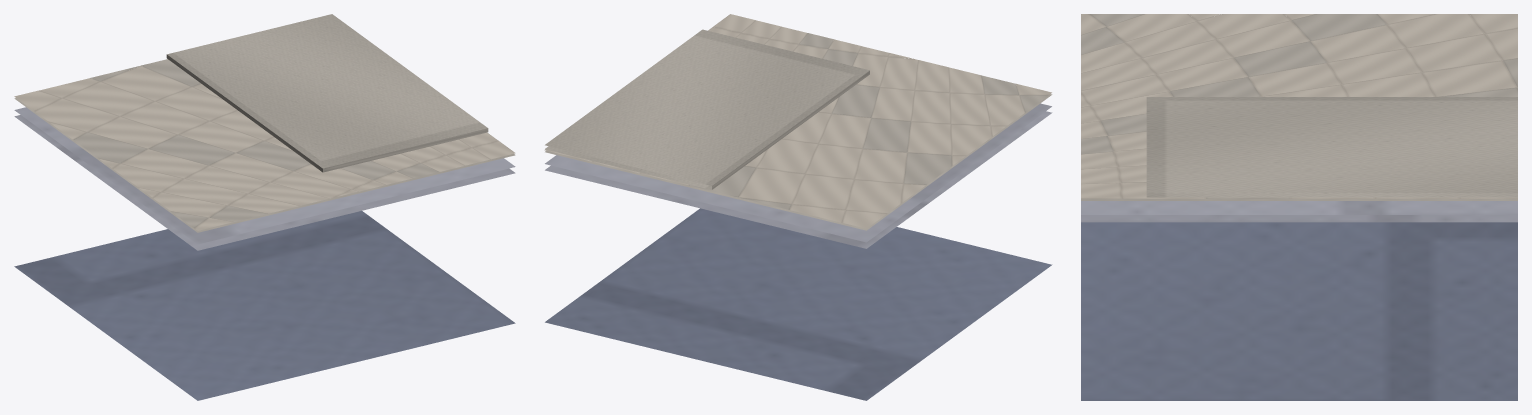
Rendered from high_crown_fracture_26.obj.
3 views of the same model, side by side, from view 1: azimuth 30°, elevation 25°; view 2: azimuth 150°, elevation 25°; view 3: azimuth 270°, elevation 25° (orthographic). The views are drawn at different scales.
Parts seen in each view (by area): view 1: ArenaFracture26; view 2: ArenaFracture26; view 3: ArenaFracture26.
Boxes of the visible parts, bbox=[...] form: ArenaFracture26: bbox=[14, 14, 515, 400]; ArenaFracture26: bbox=[544, 14, 1052, 400]; ArenaFracture26: bbox=[1081, 14, 1517, 400].
Bounding box in the file's own units: 10 × 5.26 × 10.
Materials: 4 (4 with a texture image).
